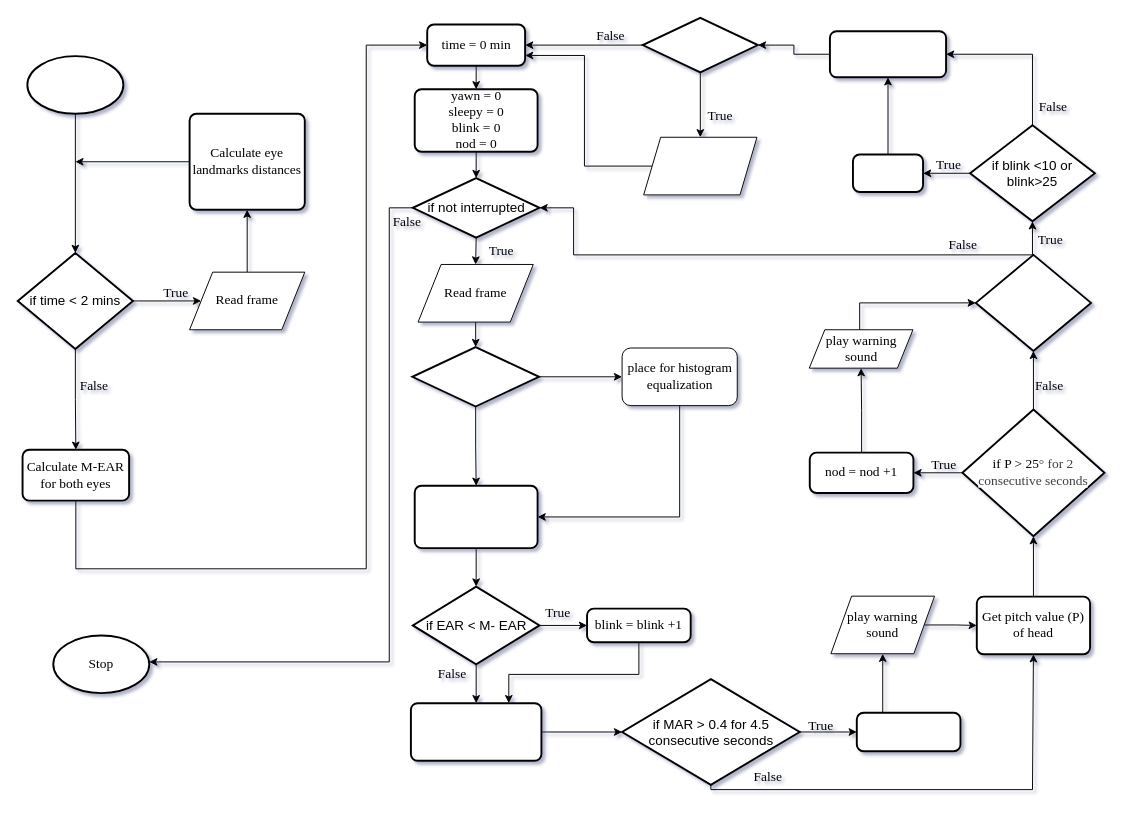
Some shapes in this 1127 by 820 pixel diagram are drawn without their labels. Here are the shapes that lost their labels. From the top down, the centre of each, then its label:
At (x=699, y=44): "if drowsy >= 3".
At (x=887, y=54): "drowsy = sleepy + yawn+nod".
At (x=75, y=84): "Start".
At (x=700, y=165): "play loud sound".
At (x=888, y=172): "sleepy = 1".
At (x=1033, y=302): "if time > 1 min".
At (x=475, y=376): "if dark image".
At (x=475, y=516): "Calculate EAR for both eyes".
At (x=475, y=731): "Calculate Mouth Aspect Ratio (MAR)".
At (x=908, y=731): "yawn = yawn +1".
